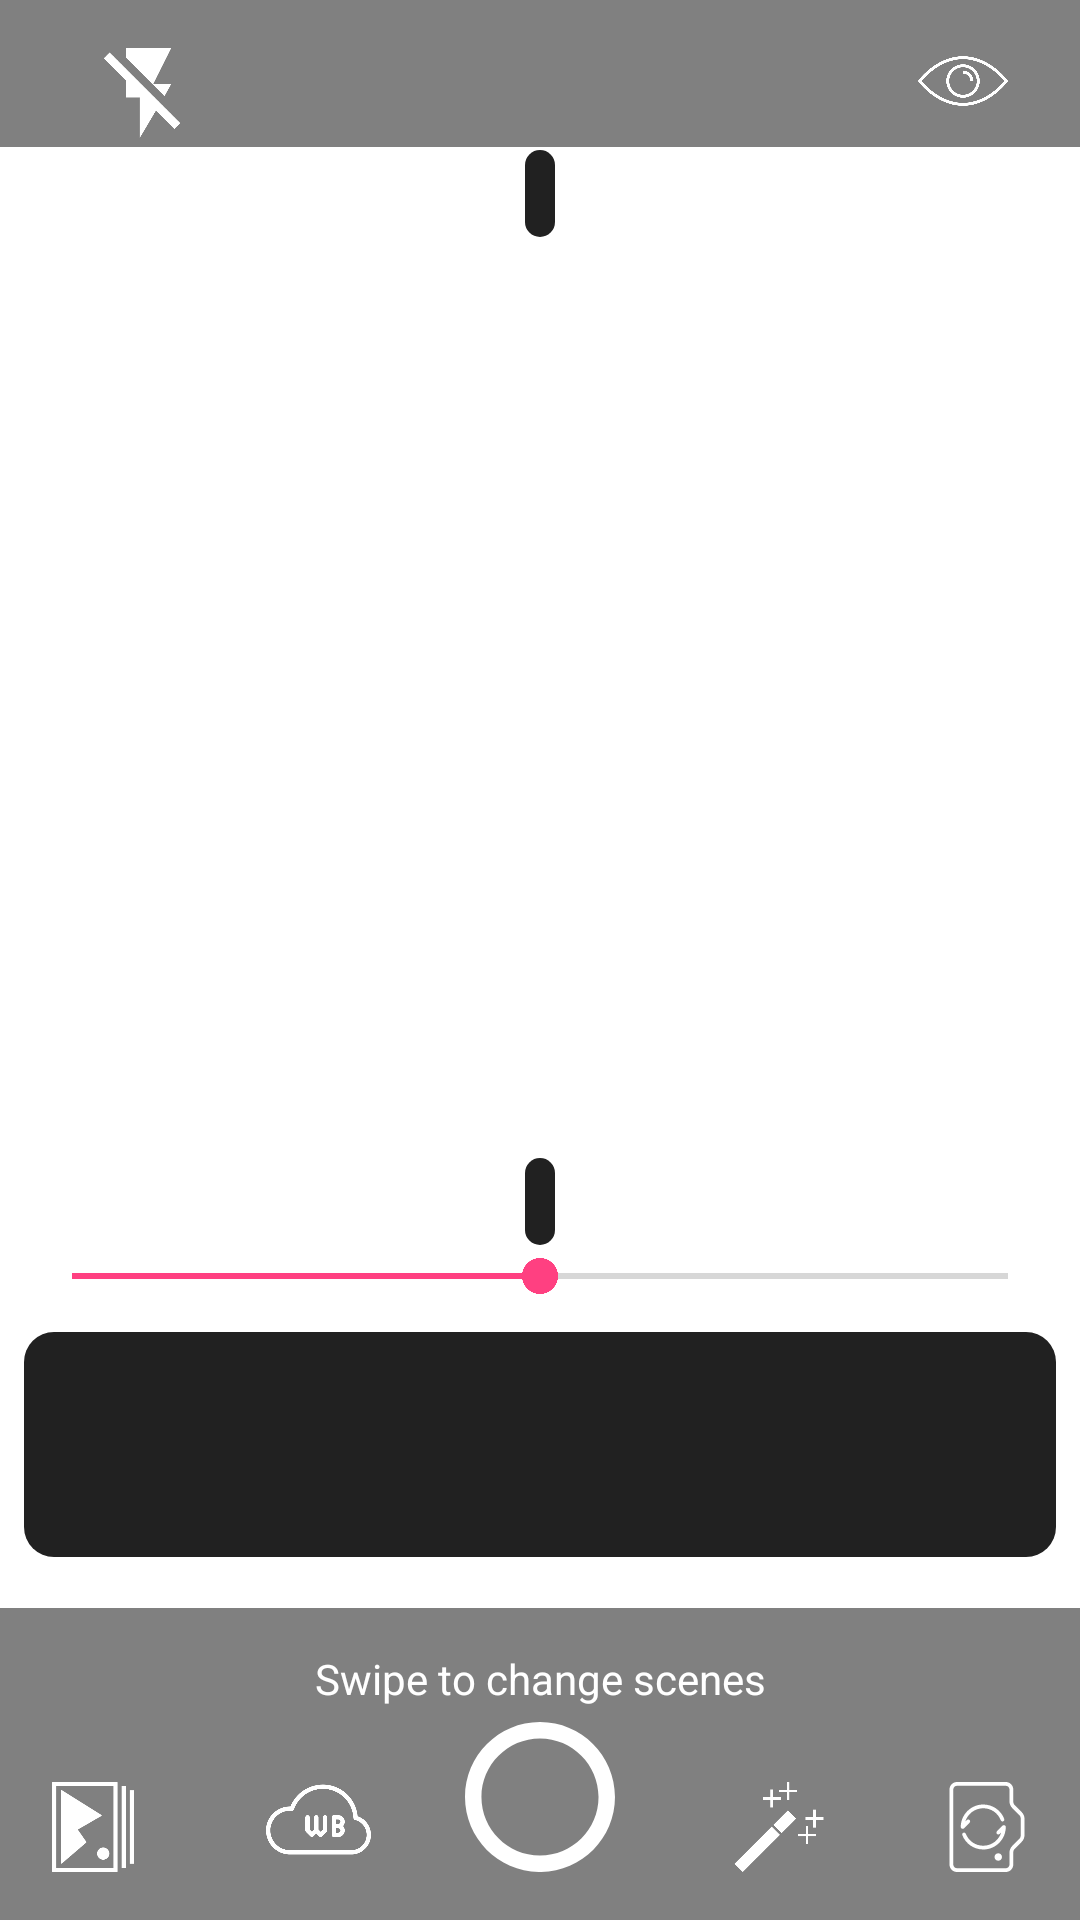

Named icons in this screenshot (1080 × 1920) and their centers, point (x, y):
balance: point (318, 1819)
Button to take a picture: point (540, 1797)
enhance effect: point (779, 1827)
flash off: point (142, 92)
visible: point (963, 81)
